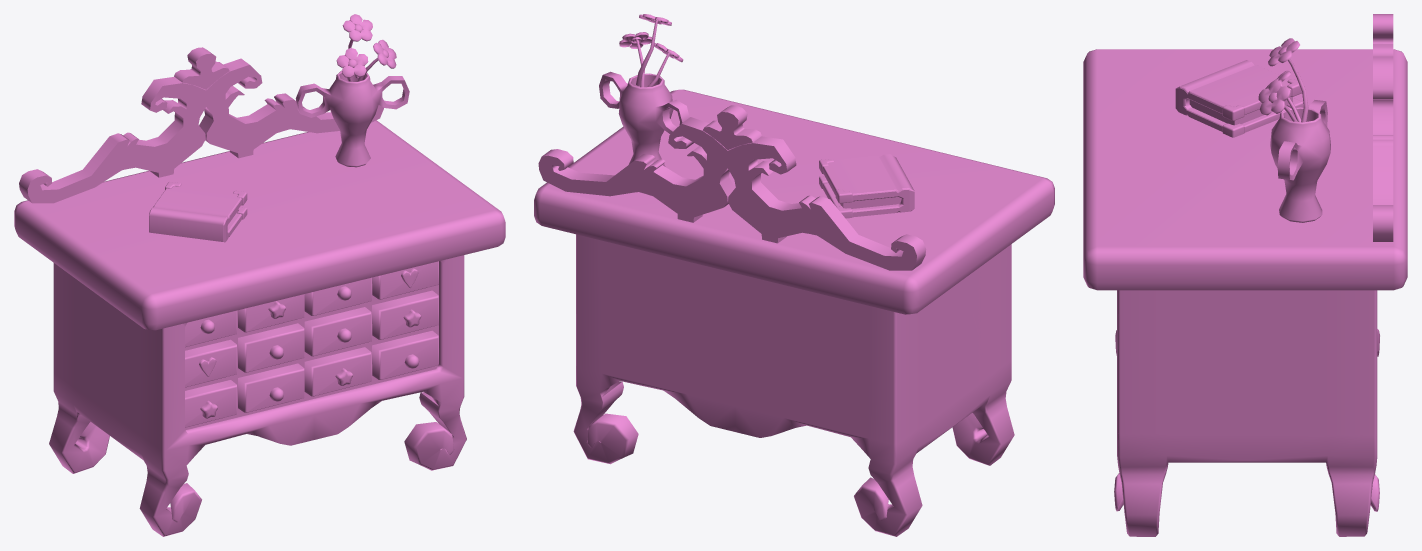
The model's file is ENV_HAU_DRESSER_MODEL.fbx.
The picture shows the model from 3 angles, left to right: view 1: azimuth 30°, elevation 25°; view 2: azimuth 150°, elevation 25°; view 3: azimuth 270°, elevation 25°; orthographic projection. The views are drawn at different scales.
Visible parts, largest first — view 1: ENV_HAU_DRESSER_MODEL; view 2: ENV_HAU_DRESSER_MODEL; view 3: ENV_HAU_DRESSER_MODEL.
Part boxes in pixels (x1,y1,x2,y2): ENV_HAU_DRESSER_MODEL: (14, 14, 505, 536); ENV_HAU_DRESSER_MODEL: (534, 14, 1054, 536); ENV_HAU_DRESSER_MODEL: (1083, 14, 1407, 536).
Size of the model in its own units: 100 by 107 by 65.66.
